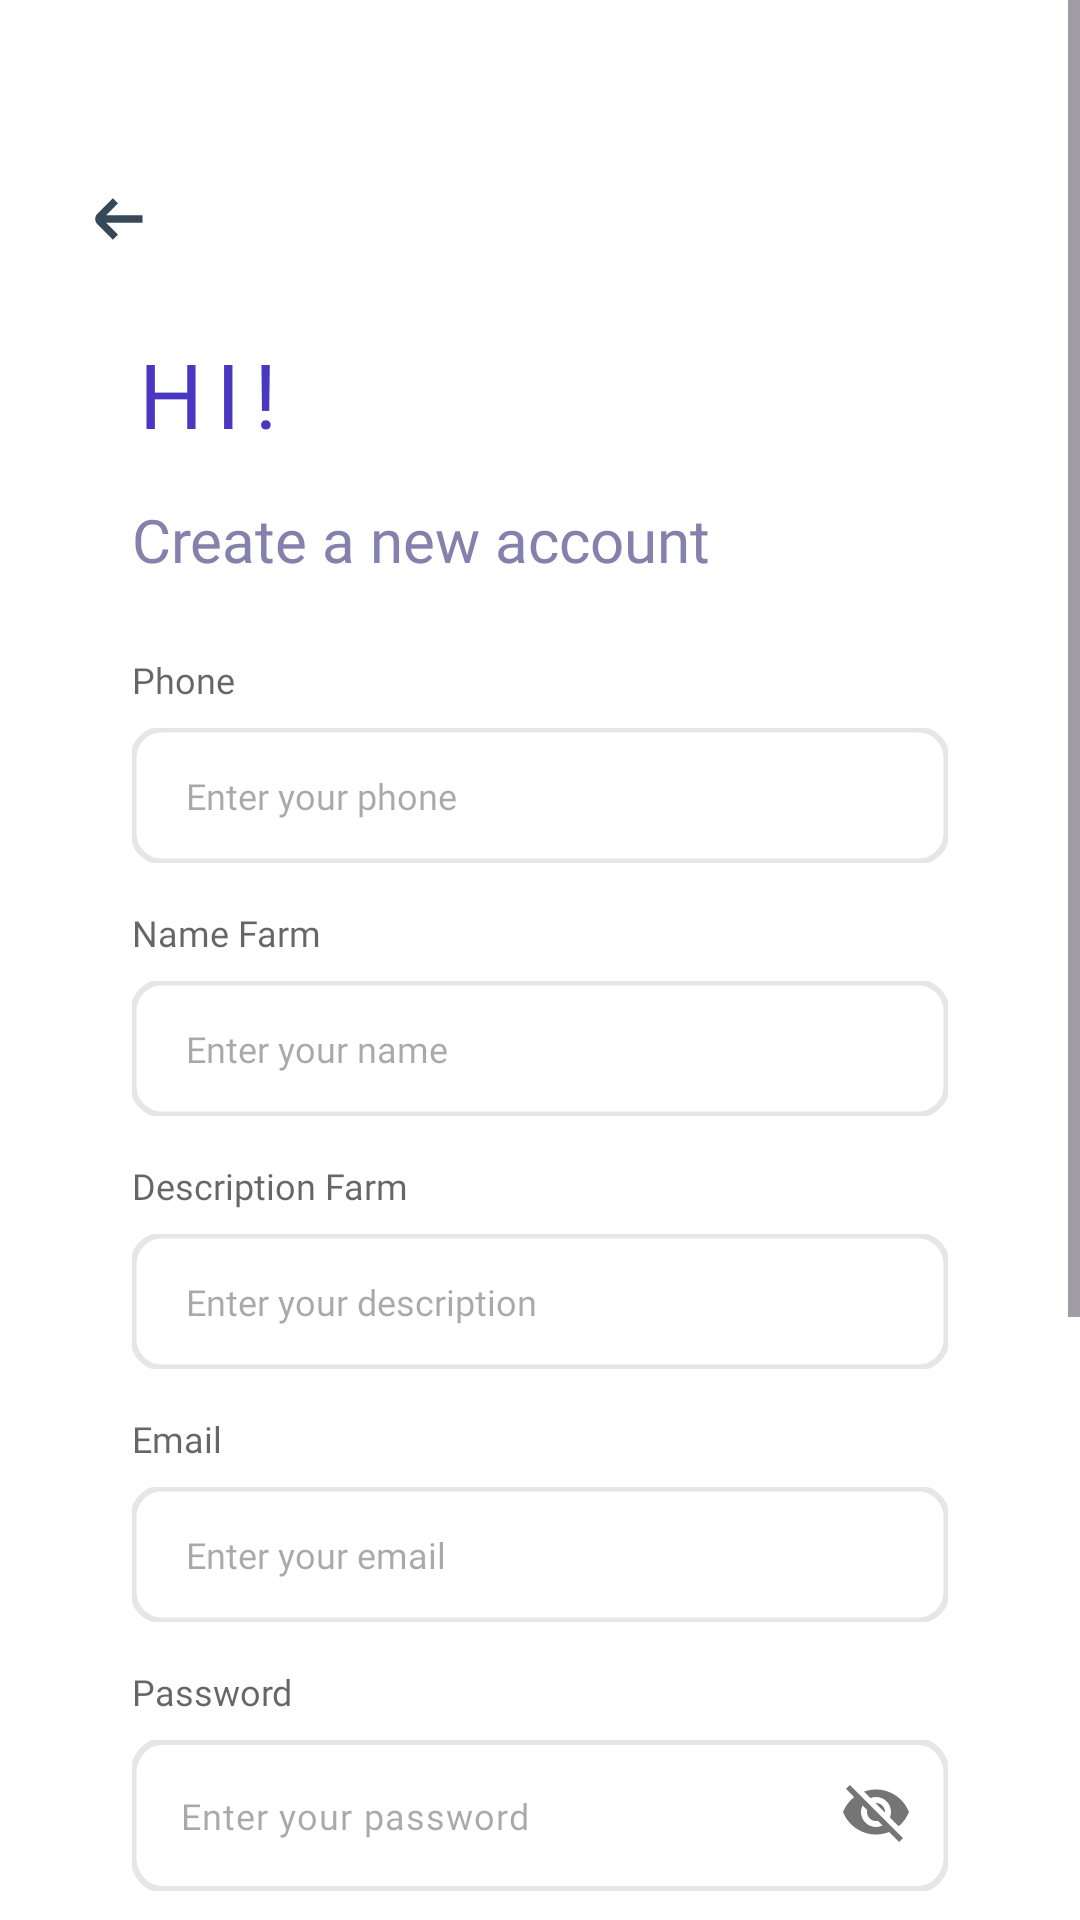

Named icons in this screenshot (1080 × 1920) and their bounding boxes, (x1, y1, x2, y2):
btnback: (95, 198, 143, 240)
